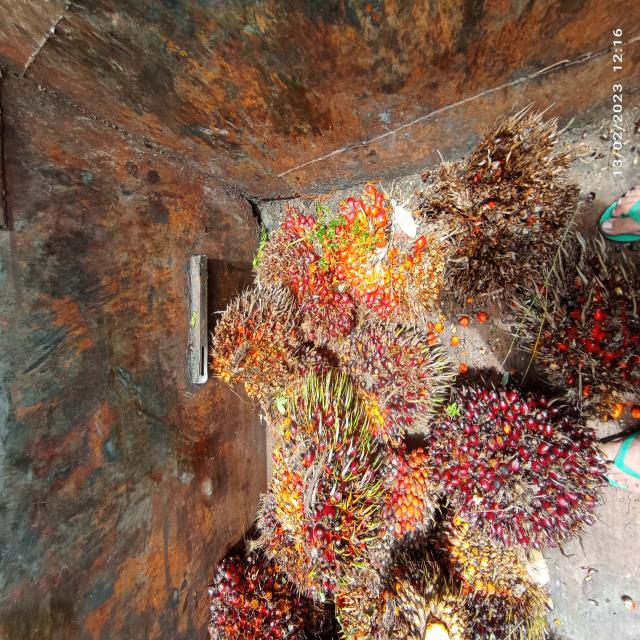fraksi 1: (246, 371, 382, 604), (336, 314, 439, 449)
fraksi 3: (429, 340, 617, 572), (254, 203, 370, 348), (329, 179, 444, 321), (384, 433, 438, 542)
fraksi 4: (421, 114, 572, 323), (521, 228, 640, 416), (186, 280, 318, 410), (210, 548, 320, 640)
